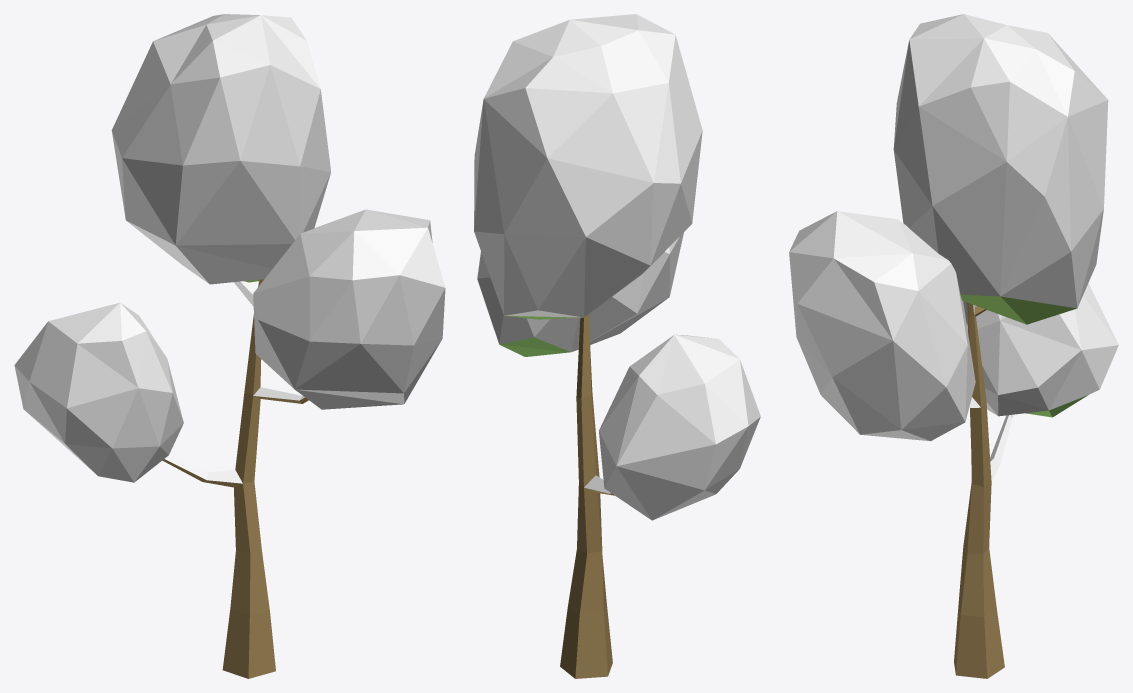
Rendered from Oak_Tree_m_Snow_07.fbx.
3 views of the same model, side by side, from view 1: azimuth 30°, elevation 25°; view 2: azimuth 150°, elevation 25°; view 3: azimuth 270°, elevation 25° (orthographic).
Parts seen in each view (by area): view 1: Oak_Tree_m_Snow_07; view 2: Oak_Tree_m_Snow_07; view 3: Oak_Tree_m_Snow_07.
Part boxes in pixels (x1=…): Oak_Tree_m_Snow_07: x1=14, y1=14, x2=445, y2=678; Oak_Tree_m_Snow_07: x1=474, y1=14, x2=760, y2=678; Oak_Tree_m_Snow_07: x1=789, y1=14, x2=1118, y2=678.
Size of the model in its own units: 462 by 857 by 402.
